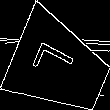L_SE: (34, 42, 85, 91)
